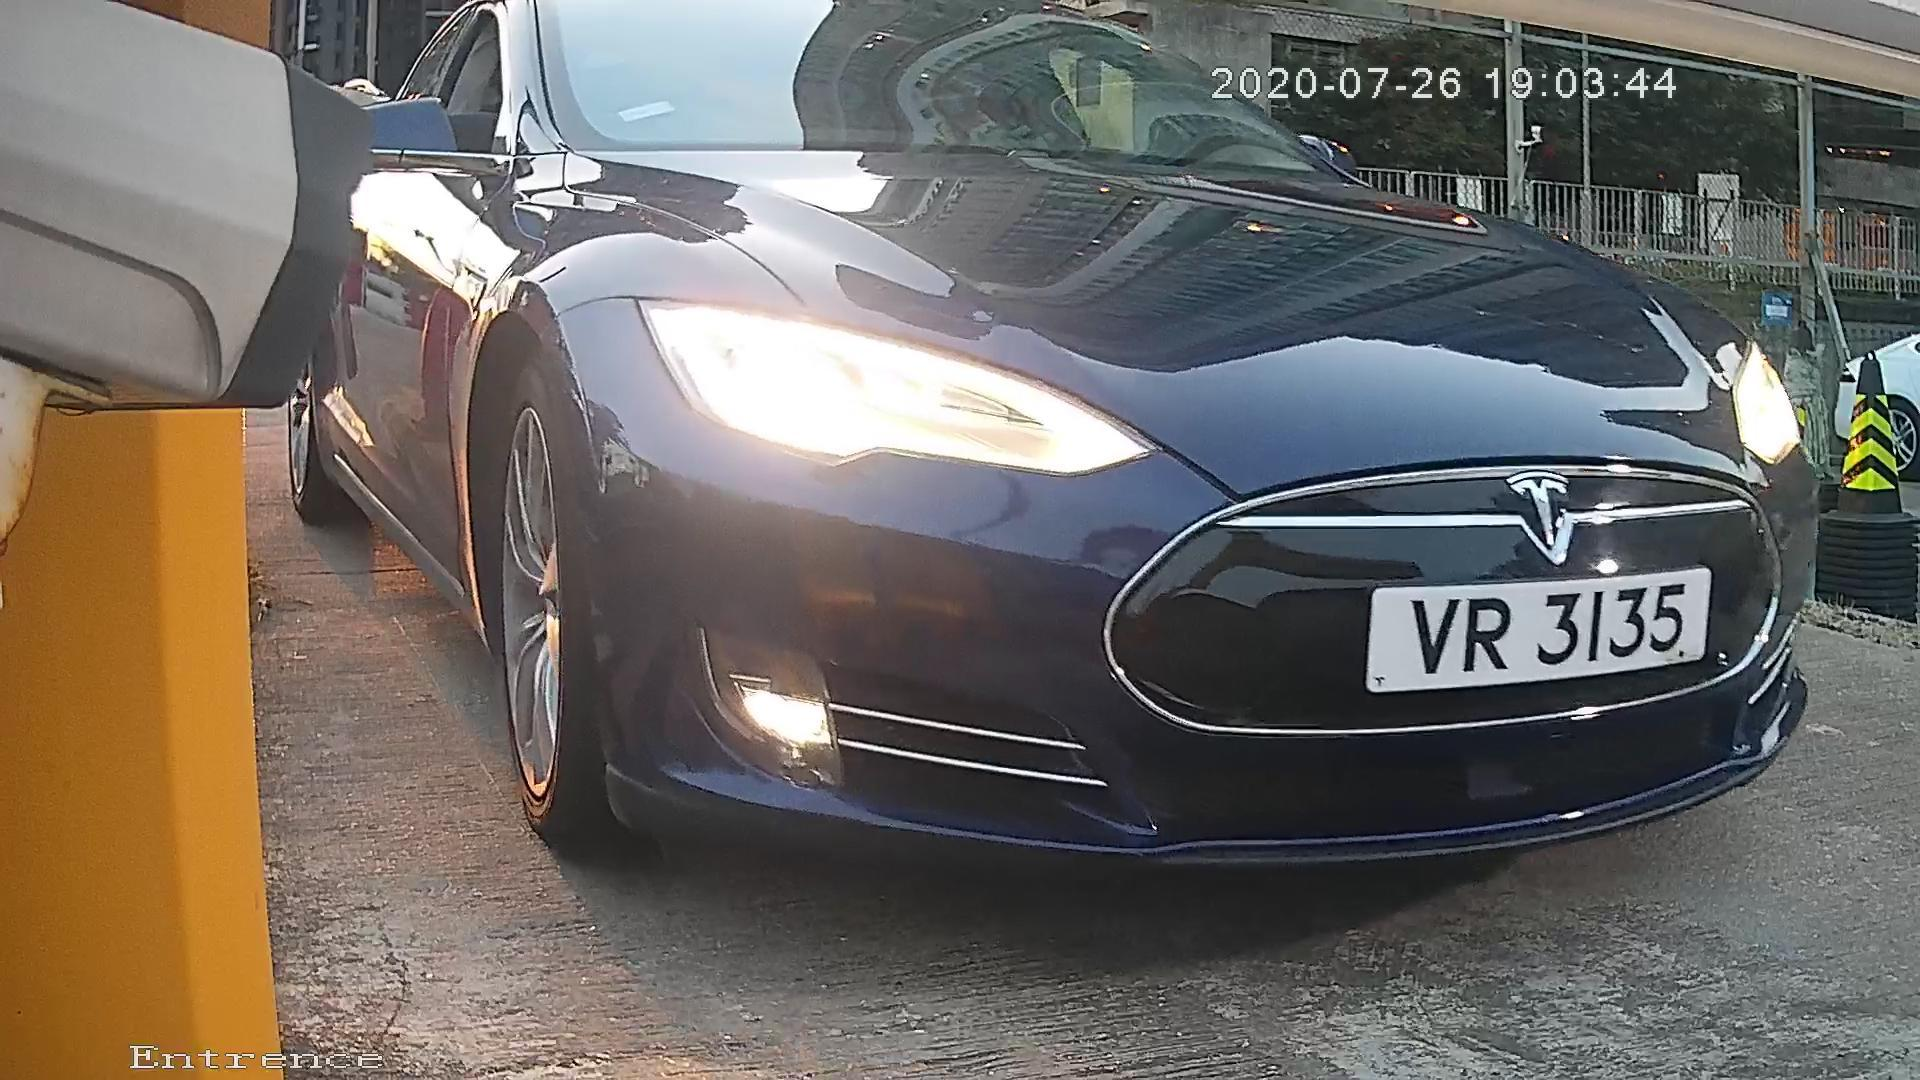Car: (309, 29, 1775, 921)
License Plate: (1355, 560, 1715, 695)
